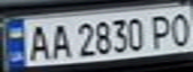0: (127, 15, 148, 52)
2: (72, 19, 96, 57)
3: (109, 16, 130, 54)
8: (93, 17, 115, 56)
A: (24, 21, 51, 62), (48, 20, 72, 61)
O: (166, 9, 193, 47)
P: (148, 11, 175, 50)
